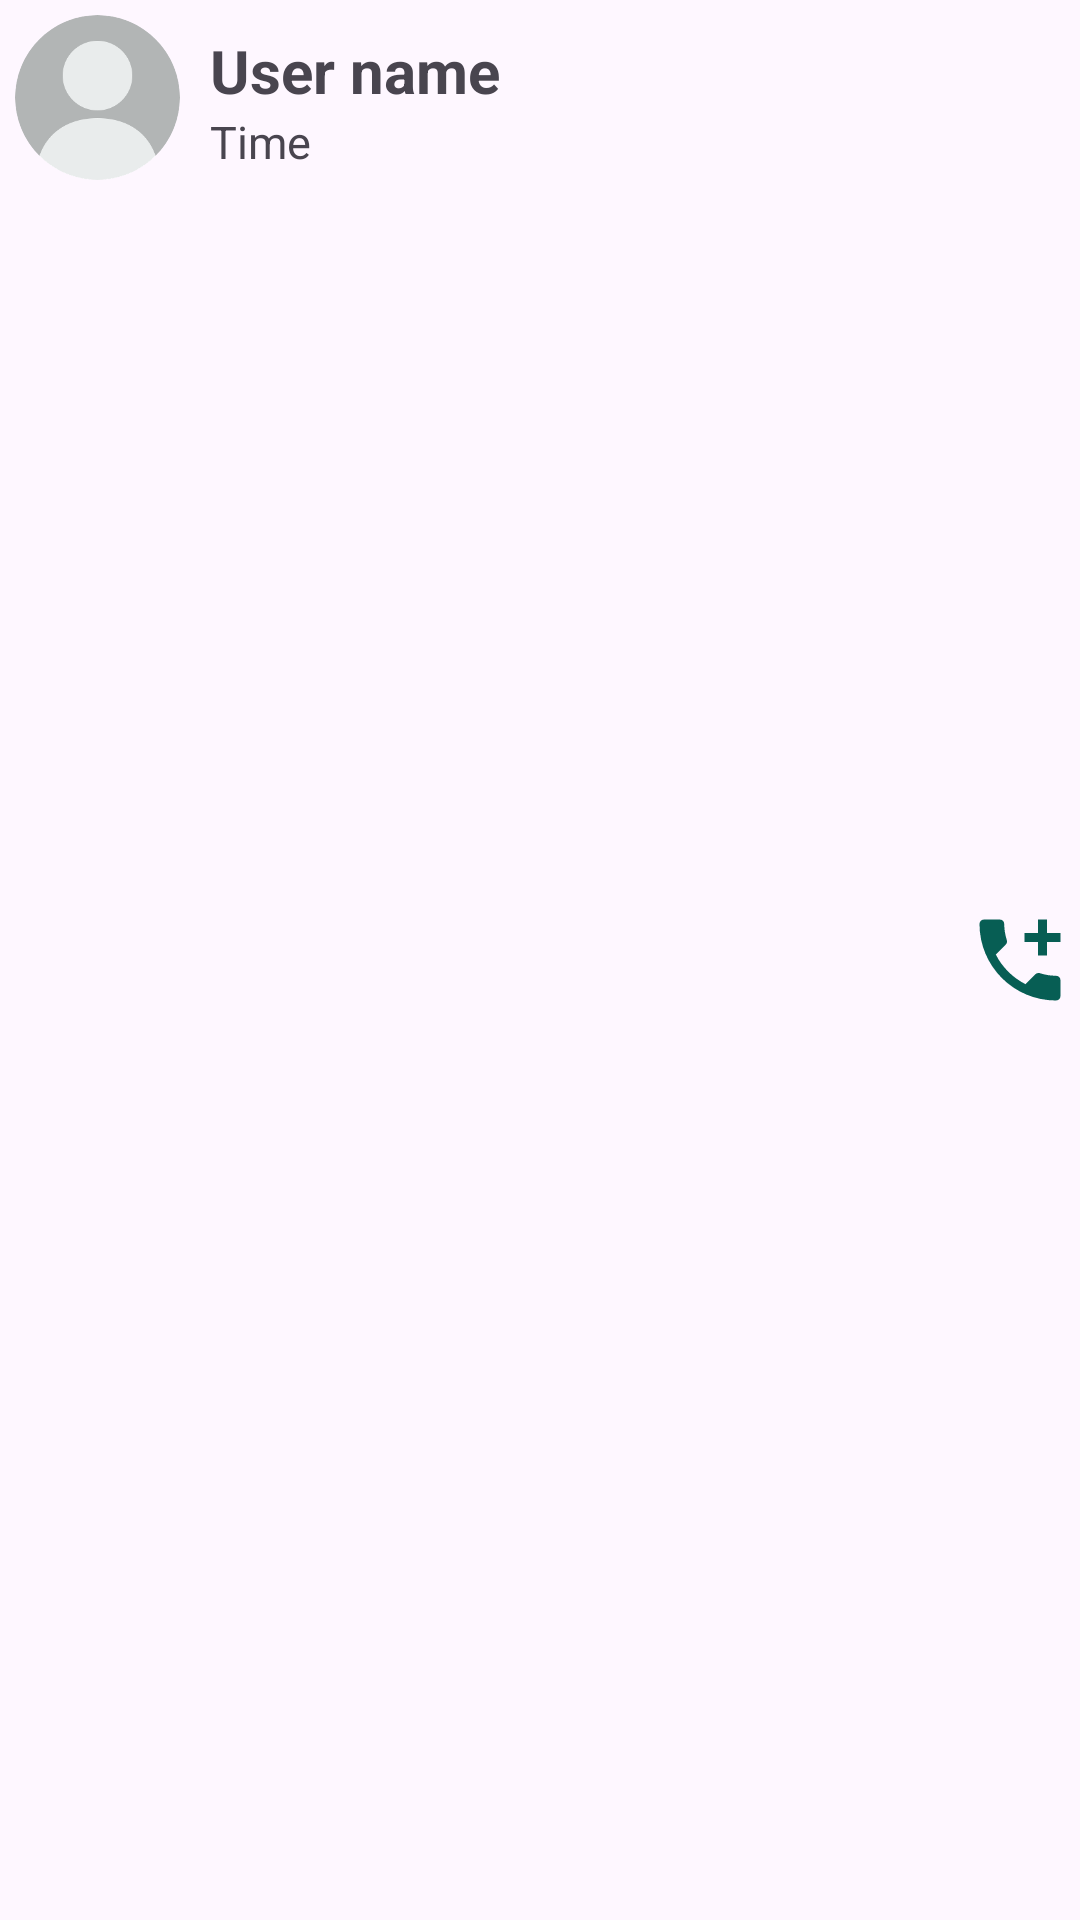

Icon bounding boxes for this 1080w x 1920h phone screenshot, format box(x1, y1, x2, y2):
add call: box(979, 919, 1061, 1001)
